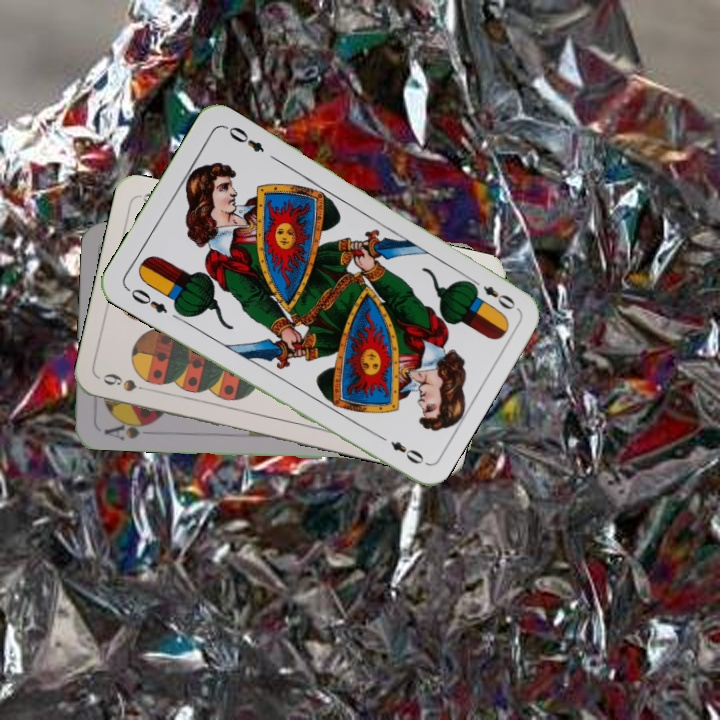EO: (466, 273, 518, 313), (122, 284, 170, 316)
S9: (99, 369, 156, 395)
SA: (100, 415, 157, 442)
